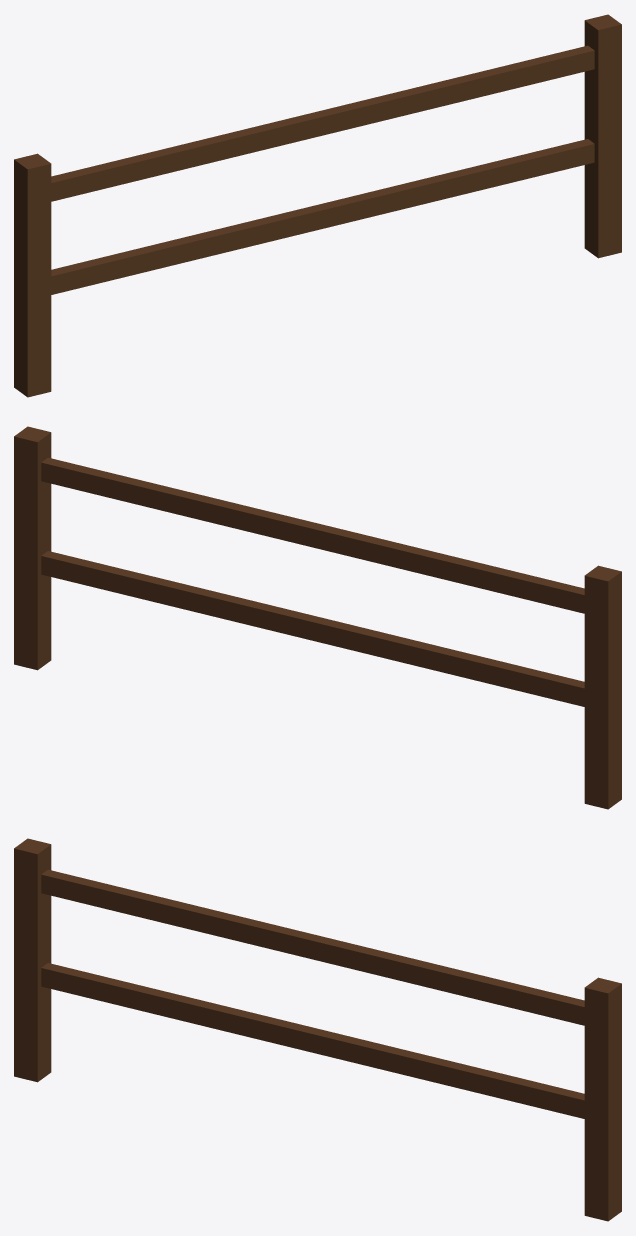
Rendered from wp-fence-module.glb.
3 views of the same model, one above another, from view 1: azimuth 30°, elevation 25°; view 2: azimuth 150°, elevation 25°; view 3: azimuth 330°, elevation 25° (orthographic).
Parts seen in each view (by area): view 1: Rail1, Rail0, Post0, Post1; view 2: Rail1, Rail0, Post0, Post1; view 3: Rail1, Rail0, Post1, Post0.
Part boxes in pixels (x1=…): Rail1: x1=17, y1=45, x2=594, y2=206; Rail0: x1=17, y1=139, x2=594, y2=300; Post0: x1=14, y1=153, x2=51, y2=397; Post1: x1=584, y1=14, x2=621, y2=258; Rail1: x1=41, y1=457, x2=618, y2=617; Rail0: x1=41, y1=551, x2=618, y2=710; Post0: x1=584, y1=565, x2=621, y2=809; Post1: x1=14, y1=426, x2=51, y2=670; Rail1: x1=41, y1=869, x2=618, y2=1029; Rail0: x1=41, y1=963, x2=618, y2=1122; Post1: x1=584, y1=977, x2=621, y2=1221; Post0: x1=14, y1=838, x2=51, y2=1082.
Size of the model in its own units: 3 by 1.1 by 0.12.
